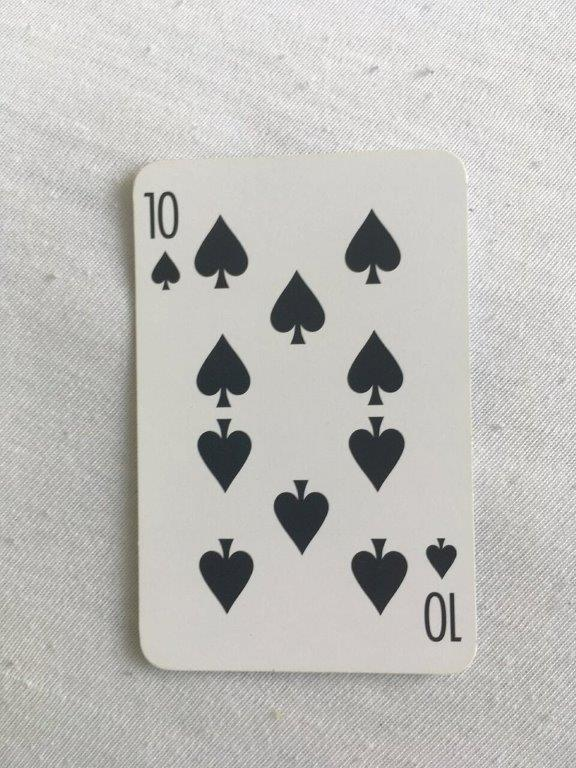10S: (128, 146, 483, 679)
